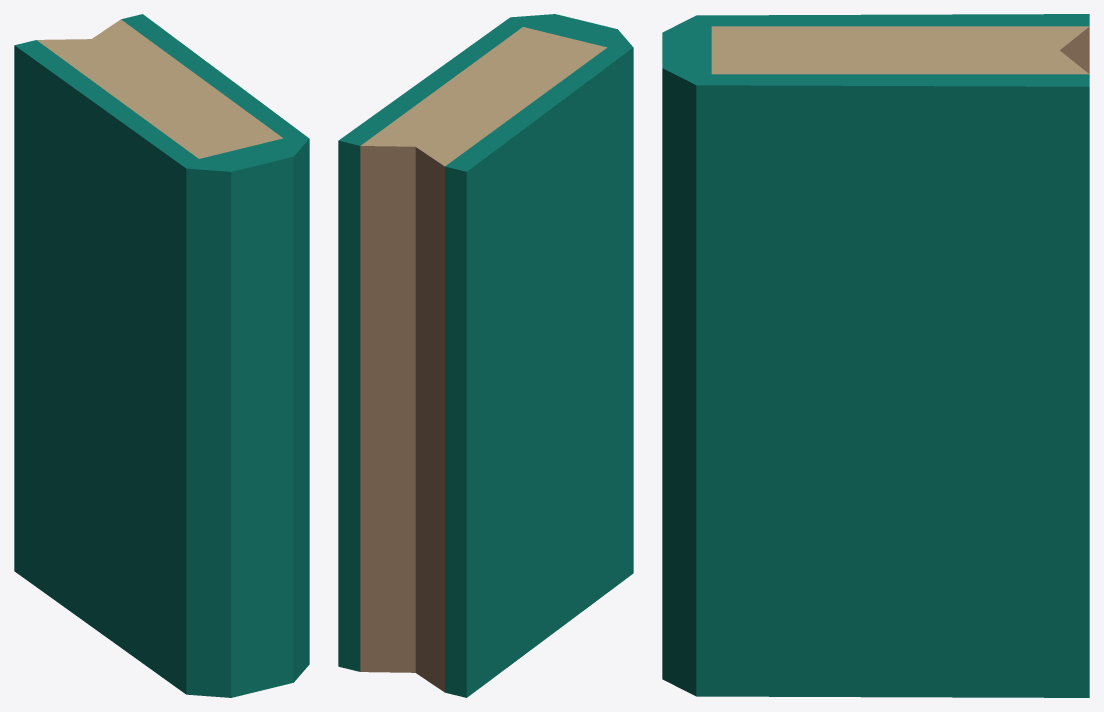
File: TB_D_Prop_Book_Big_B.FBX
The picture shows the model from 3 angles, left to right: view 1: azimuth 30°, elevation 25°; view 2: azimuth 150°, elevation 25°; view 3: azimuth 270°, elevation 25°; orthographic projection. The views are drawn at different scales.
Parts seen in each view (by area): view 1: TB_D_Prop_Book_Big_B; view 2: TB_D_Prop_Book_Big_B; view 3: TB_D_Prop_Book_Big_B.
Boxes of the visible parts, x1,y1,x2,y2 form: TB_D_Prop_Book_Big_B: (14, 14, 309, 697); TB_D_Prop_Book_Big_B: (338, 14, 633, 697); TB_D_Prop_Book_Big_B: (662, 14, 1089, 697).
Bounding box in the file's own units: 0.2144 × 0.8401 × 0.5323.
